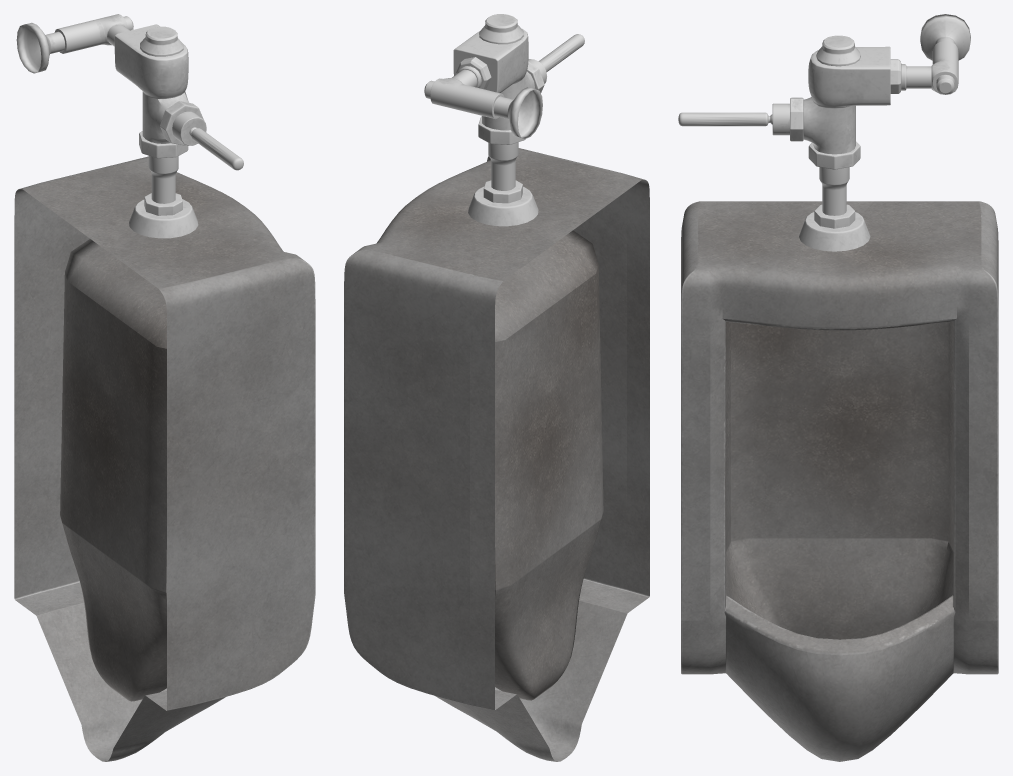
The model's file is bathroom_urinal_game-ready.glb.
3 renders of one model, left to right at view 1: azimuth 30°, elevation 25°; view 2: azimuth 150°, elevation 25°; view 3: azimuth 270°, elevation 25°, orthographic. The views are drawn at different scales.
Visible parts, largest first — view 1: Object_2; view 2: Object_2; view 3: Object_2.
Part boxes in pixels (bbox=[...]): Object_2: bbox=[14, 14, 315, 761]; Object_2: bbox=[344, 14, 649, 761]; Object_2: bbox=[678, 14, 998, 761].
Size of the model in its own units: 4.28 by 13.49 by 5.37.
Materials: 1 (1 with a texture image).
